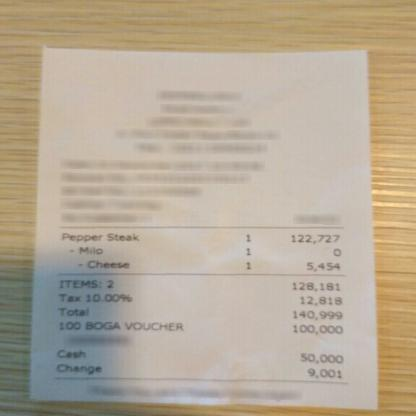receipts: (45, 48, 361, 404)
